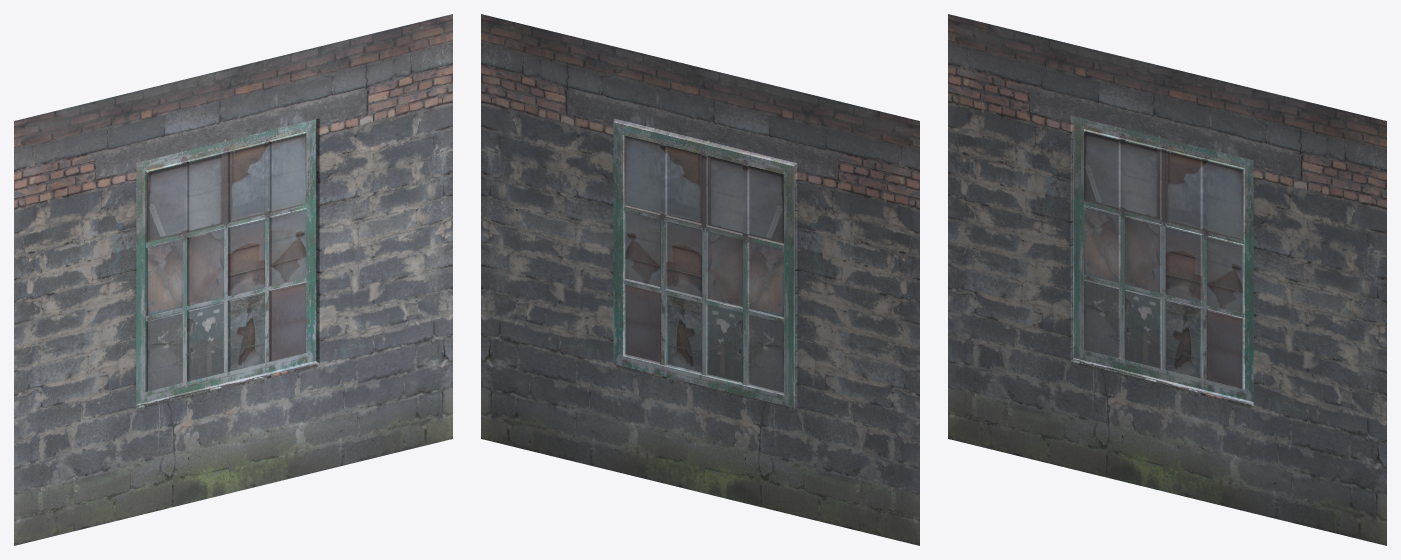
Rendered from sm_Wall_06_04.fbx.
The picture shows the model from 3 angles, left to right: view 1: azimuth 30°, elevation 25°; view 2: azimuth 150°, elevation 25°; view 3: azimuth 330°, elevation 25°; orthographic projection.
Visible parts, largest first — view 1: sm_Wall_06_04_LOD0; view 2: sm_Wall_06_04_LOD0; view 3: sm_Wall_06_04_LOD0.
Boxes of the visible parts, <box> form: sm_Wall_06_04_LOD0: <box>14,14,452,545</box>; sm_Wall_06_04_LOD0: <box>481,14,919,545</box>; sm_Wall_06_04_LOD0: <box>948,14,1386,545</box>.
Bounding box in the file's own units: 3.59 × 400 × 370.
